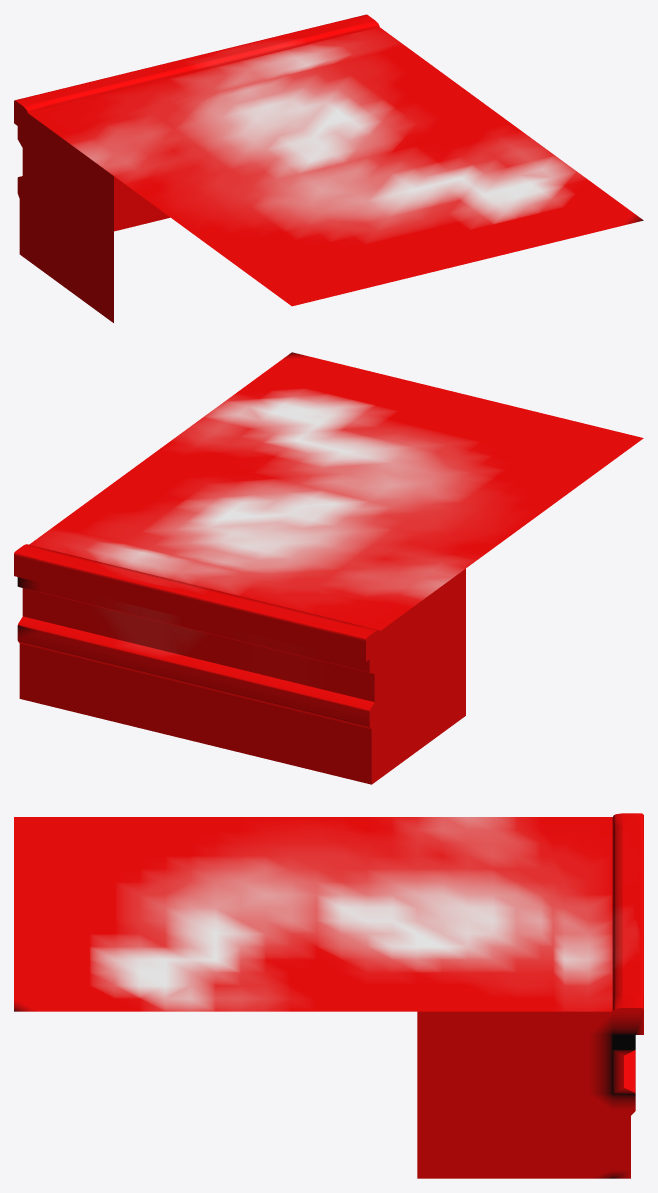
3 renders of one model, top to bottom at view 1: azimuth 30°, elevation 25°; view 2: azimuth 150°, elevation 25°; view 3: azimuth 270°, elevation 25°, orthographic. The views are drawn at different scales.
Parts seen in each view (by area): view 1: SM_Floor_Platform_01_LOD0; view 2: SM_Floor_Platform_01_LOD0; view 3: SM_Floor_Platform_01_LOD0.
Part boxes in pixels (box(x1,y1,x2,y2)): SM_Floor_Platform_01_LOD0: box(14, 14, 643, 322); SM_Floor_Platform_01_LOD0: box(14, 352, 643, 784); SM_Floor_Platform_01_LOD0: box(14, 813, 643, 1178).
Bounding box in the file's own units: 500 × 684 × 205.
